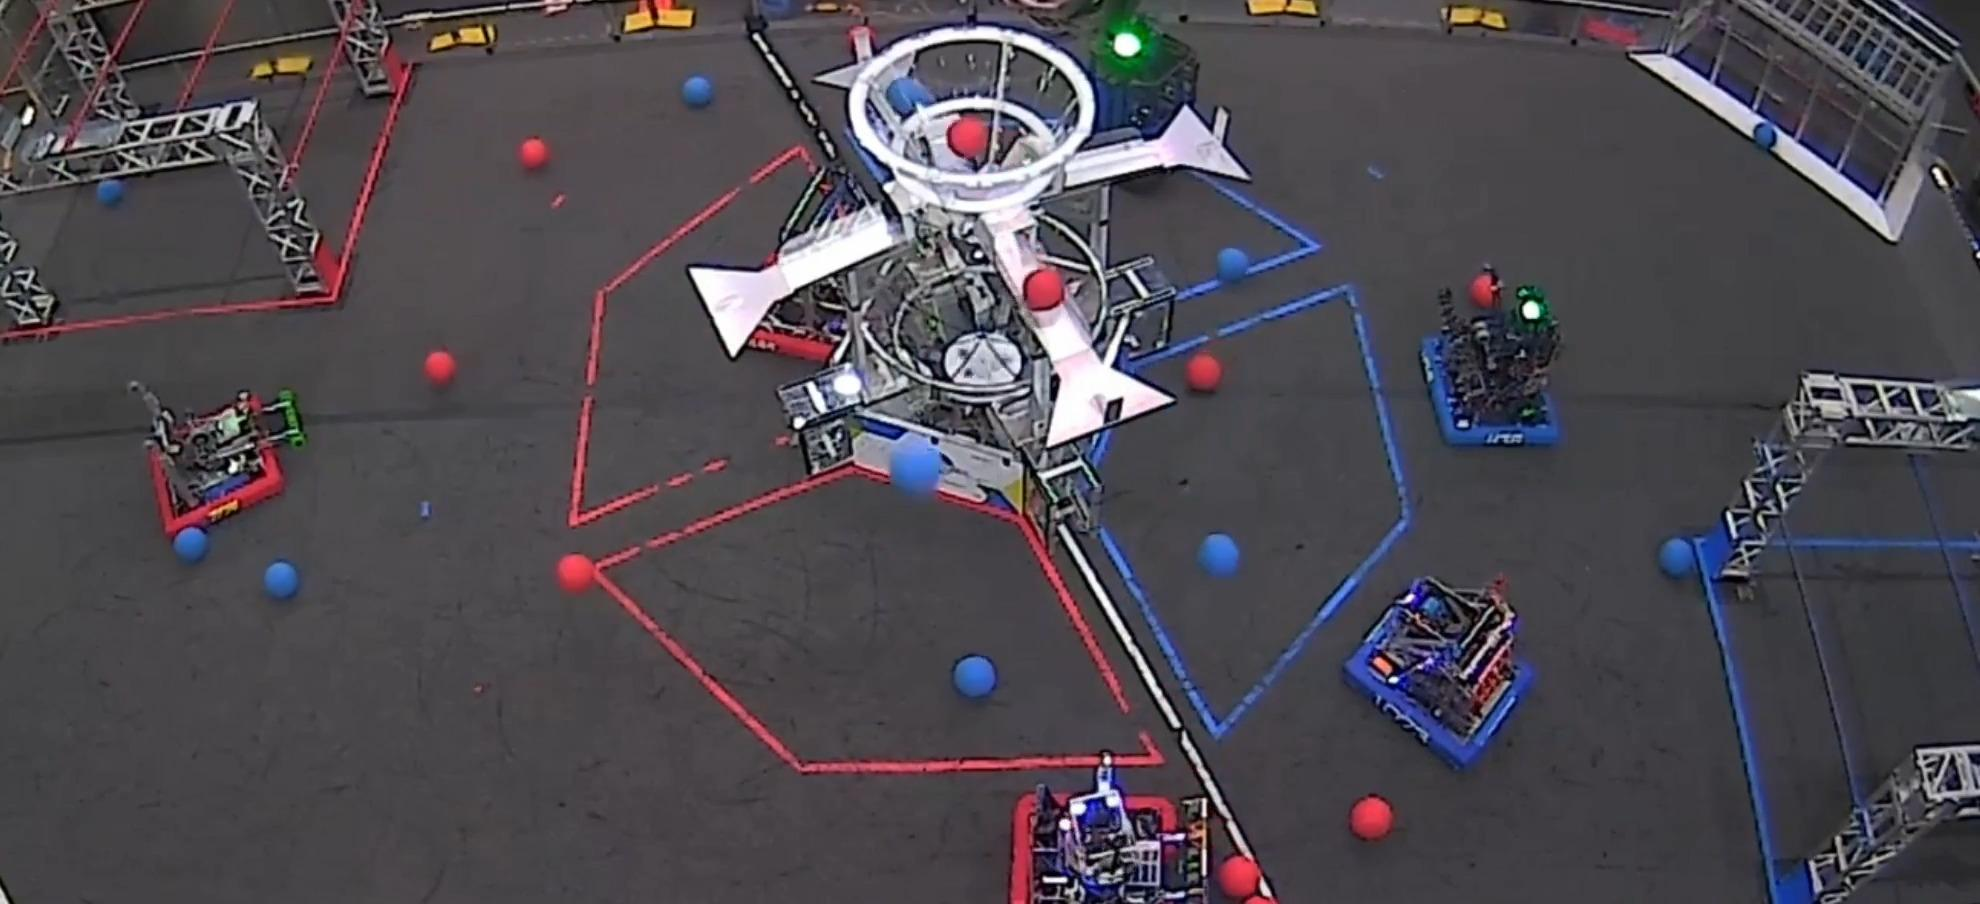Robots: (1347, 577, 1530, 766), (1018, 754, 1207, 903), (129, 383, 306, 534), (1424, 265, 1560, 444), (1088, 10, 1206, 181), (766, 158, 854, 346)
